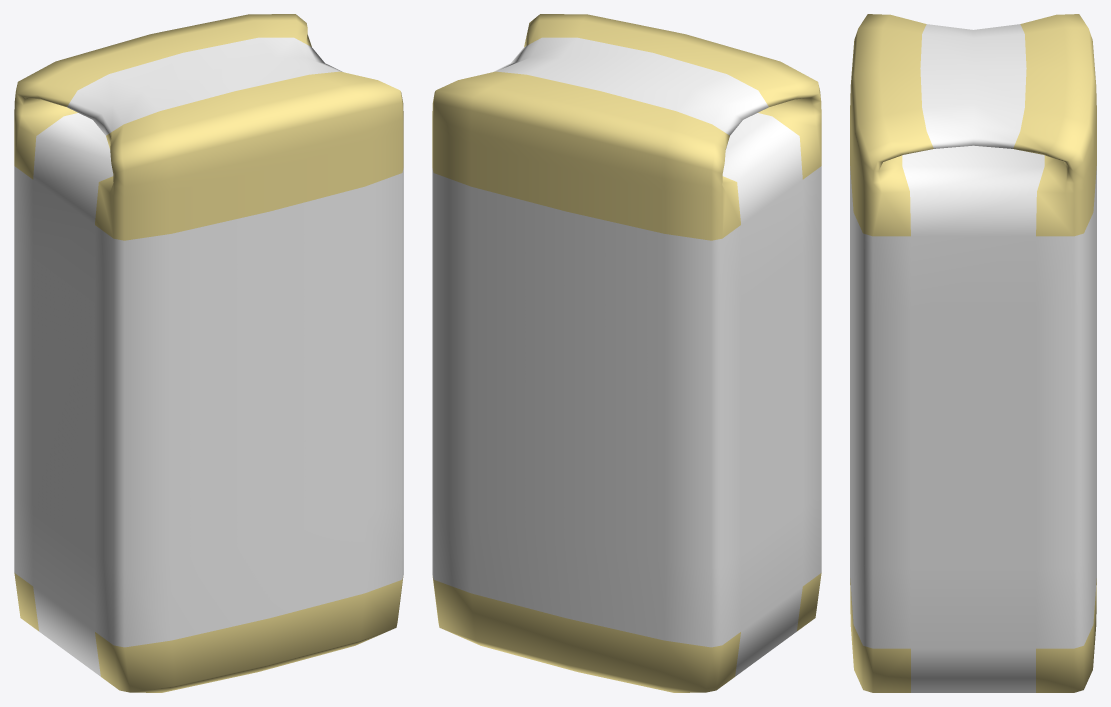
The model's file is BoxRice_00.fbx.
3 views of the same model, side by side, from view 1: azimuth 30°, elevation 25°; view 2: azimuth 150°, elevation 25°; view 3: azimuth 270°, elevation 25° (orthographic).
Visible parts, largest first — view 1: BoxRice_00; view 2: BoxRice_00; view 3: BoxRice_00.
Part boxes in pixels (x1,y1,x2,y2): BoxRice_00: (14, 14, 403, 692); BoxRice_00: (432, 14, 821, 692); BoxRice_00: (850, 14, 1096, 692).
Bounding box in the file's own units: 23.06 × 42.84 × 16.77.
